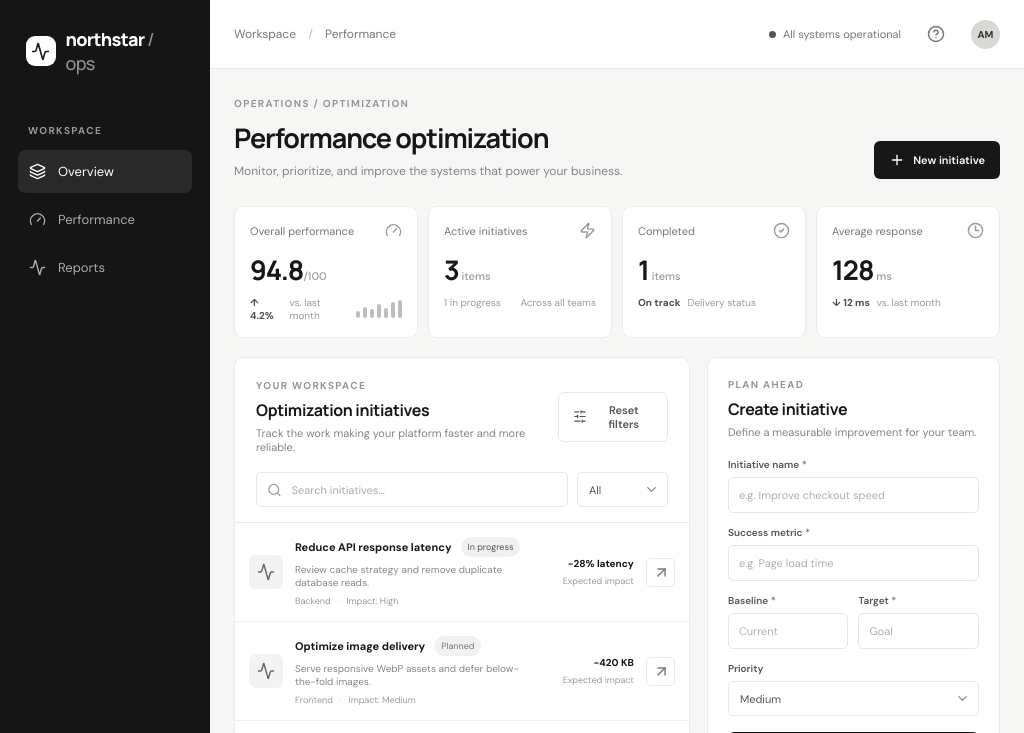
Scenario: Performance Optimization portal acceptance criteria › shows a helpful empty state when search returns no results
Type "nothing matches this" into the field labelled "Search initiatives..." at coordinates (423, 490), box [290,482,557,498]
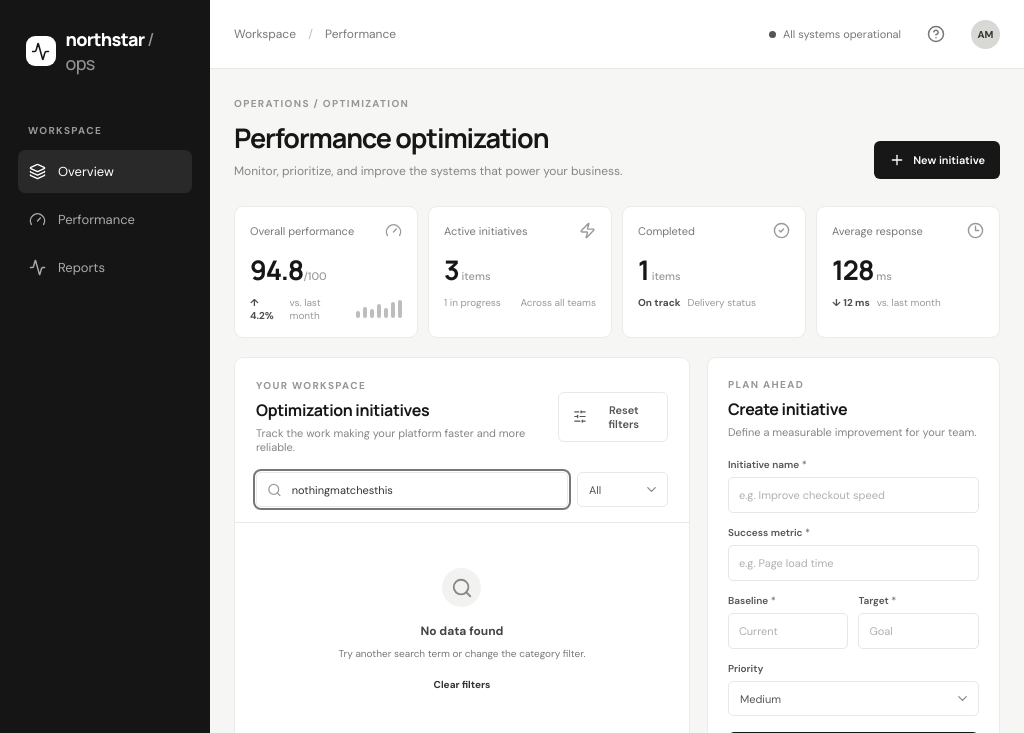
Expected: the text "No data found" is shown, [420,623,504,639]
Expected: the button "Clear filters" is shown, [434,678,490,691]
